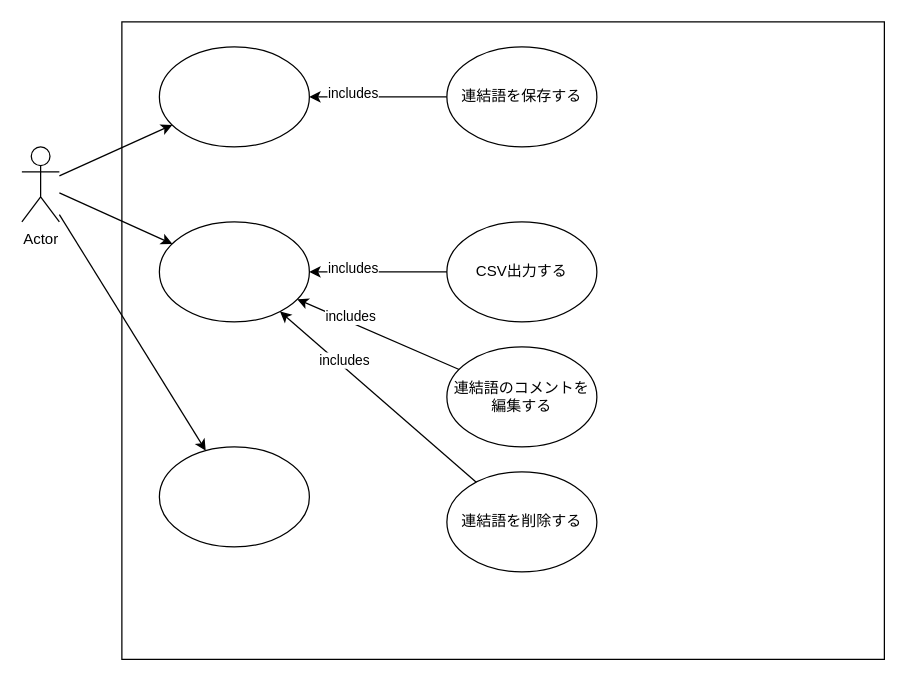
Some shapes in this 906 by 681 pixel diagram are drawn without their labels. Here are the shapes that lost their labels. From the top down, the centre of each, then its label:
At (233,96): "単語を連結する".
At (233,271): "連結語を一覧表示する".
At (233,496): "連結語を登録する".
